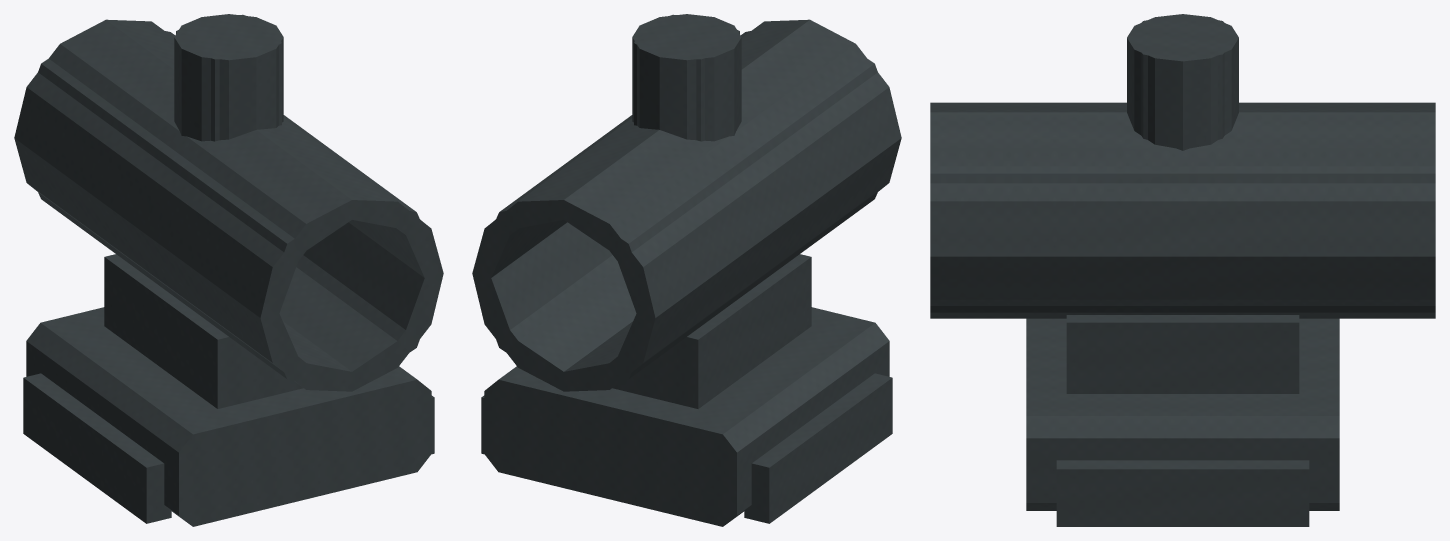
Rendered from dot_tube.glb.
The picture shows the model from 3 angles, left to right: view 1: azimuth 30°, elevation 25°; view 2: azimuth 150°, elevation 25°; view 3: azimuth 270°, elevation 25°; orthographic projection. The views are drawn at different scales.
Parts seen in each view (by area): view 1: dot_tube_foot, dot_tube_foot.001; view 2: dot_tube_foot, dot_tube_foot.001; view 3: dot_tube_foot, dot_tube_foot.001.
Part boxes in pixels (x1,y1,x2,y2): dot_tube_foot: (14,14,443,526); dot_tube_foot.001: (38,14,443,391); dot_tube_foot: (472,14,901,526); dot_tube_foot.001: (473,14,877,390); dot_tube_foot: (930,14,1435,526); dot_tube_foot.001: (930,14,1435,312).
Bounding box in the file's own units: 0.0912 × 0.123 × 0.135.
Materials: 1 (1 with a texture image).
